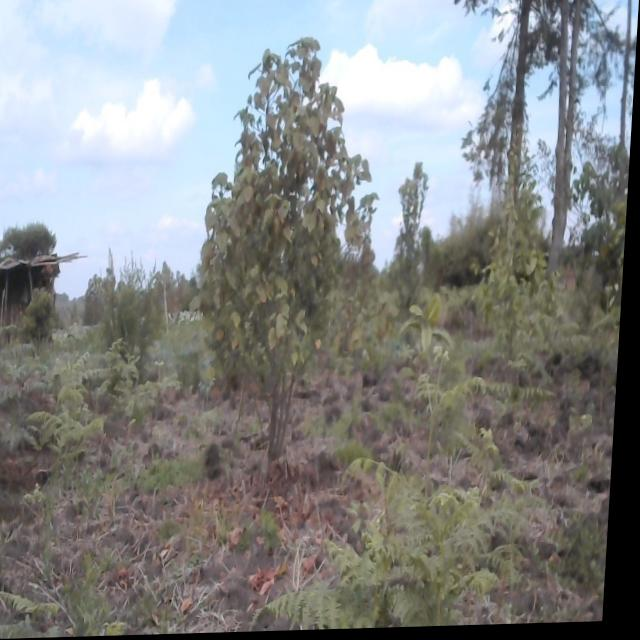other: (178, 0, 374, 529)
